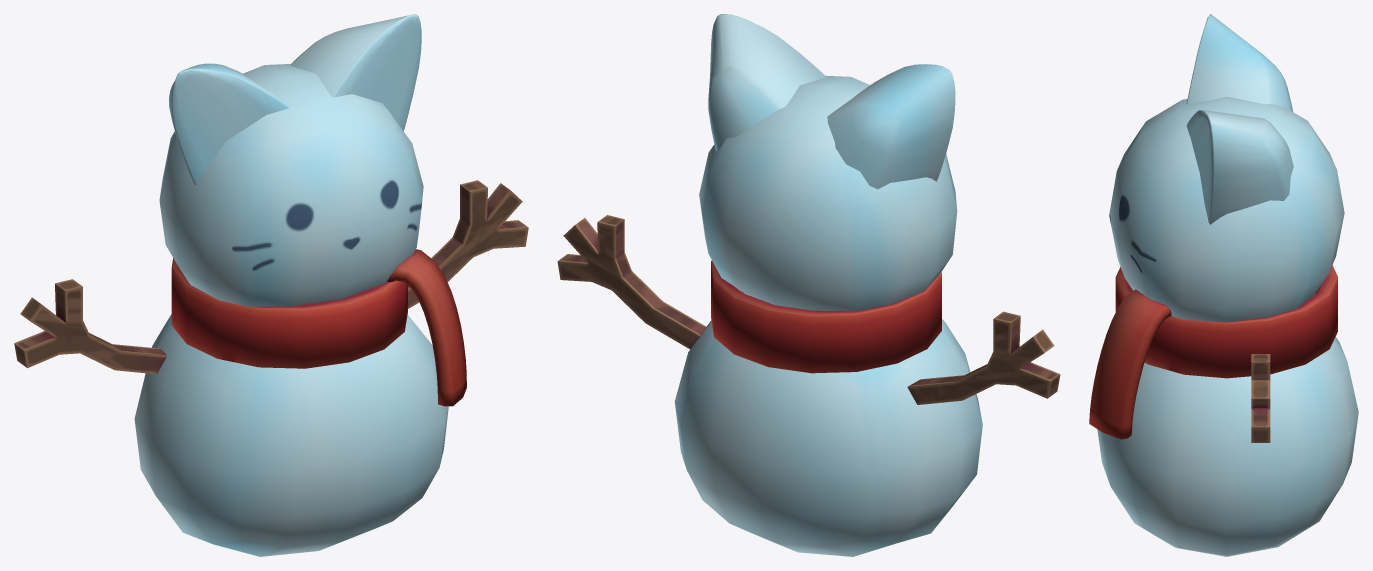
The model's file is snowman.glb.
The picture shows the model from 3 angles, left to right: view 1: azimuth 30°, elevation 25°; view 2: azimuth 150°, elevation 25°; view 3: azimuth 270°, elevation 25°; orthographic projection. The views are drawn at different scales.
Visible parts, largest first — view 1: Body; view 2: Body; view 3: Body.
Part boxes in pixels (left/top/right/bottom): Body: left=14, top=14, right=528, bottom=556; Body: left=557, top=14, right=1060, bottom=556; Body: left=1089, top=14, right=1358, bottom=556.
Bounding box in the file's own units: 4.19 × 4 × 2.08.
1 material, 1 textured.
